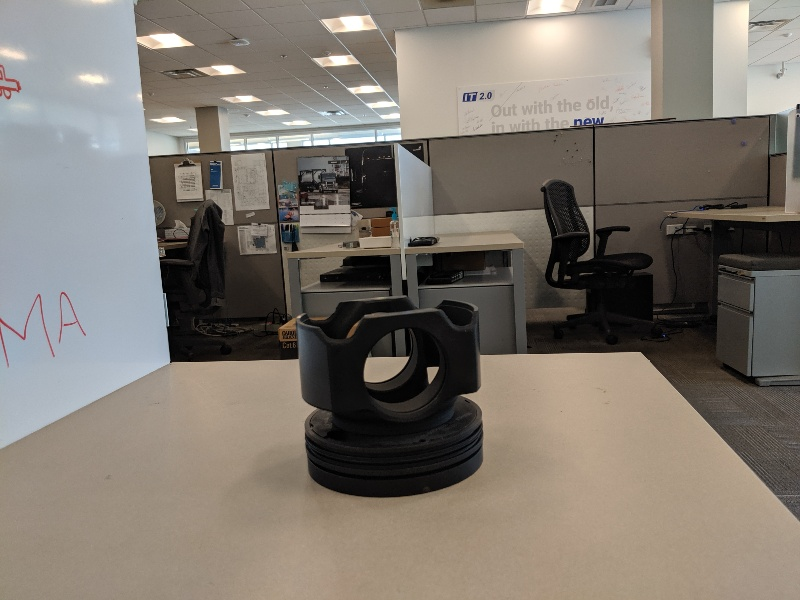piston: (288, 296, 497, 504)
